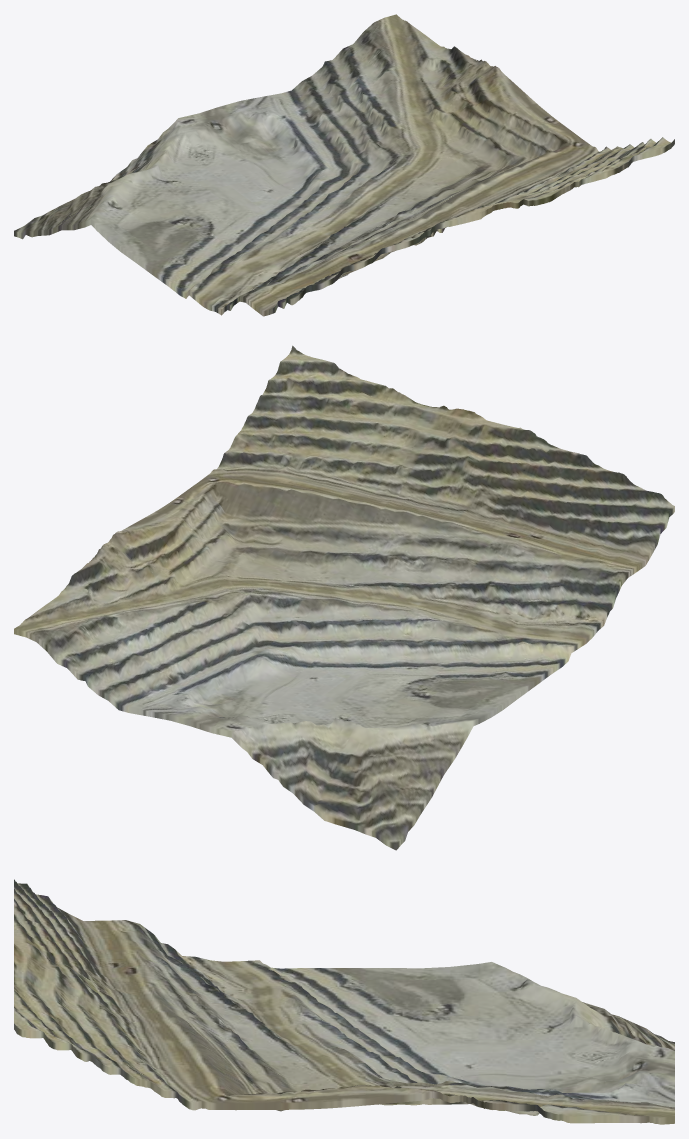
3 renders of one model, top to bottom at view 1: azimuth 30°, elevation 25°; view 2: azimuth 150°, elevation 25°; view 3: azimuth 270°, elevation 25°, orthographic. The views are drawn at different scales.
Parts seen in each view (by area): view 1: l1-3-0; view 2: l1-3-0; view 3: l1-3-0.
Part boxes in pixels (x1=…): l1-3-0: x1=14, y1=14, x2=674, y2=316; l1-3-0: x1=14, y1=345, x2=674, y2=850; l1-3-0: x1=14, y1=879, x2=674, y2=1124.
Size of the model in its own units: 595 by 309 by 751.
1 material, 1 textured.
